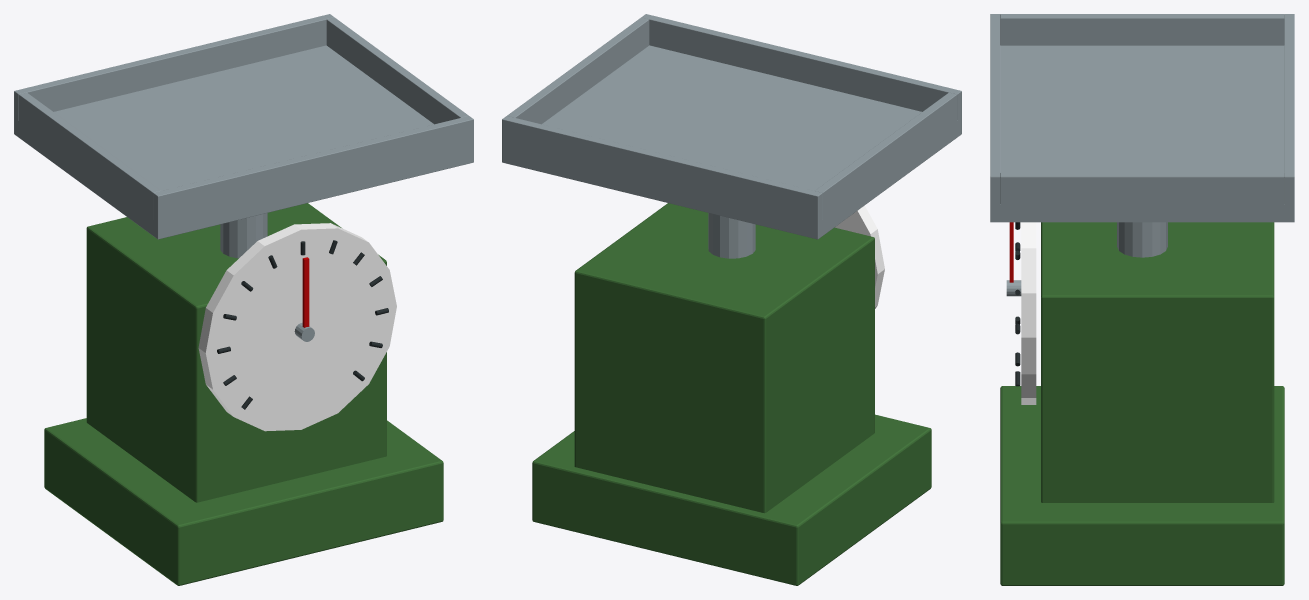
The model's file is local-wet-market-weighing-scale.glb.
3 renders of one model, left to right at view 1: azimuth 30°, elevation 25°; view 2: azimuth 150°, elevation 25°; view 3: azimuth 270°, elevation 25°, orthographic. The views are drawn at different scales.
Visible parts, largest first — view 1: Housing, Platform, Base, Dial, Pan_Lip, Pan_Lip.001, Pan_Lip.002, Pan_Lip.003, Spring_Column; view 2: Housing, Platform, Base, Pan_Lip.001, Pan_Lip, Pan_Lip.002, Pan_Lip.003, Spring_Column, Dial; view 3: Housing, Platform, Base, Pan_Lip.003, Pan_Lip.002, Dial, Pan_Lip, Pan_Lip.001, Spring_Column.
Boxes of the visible parts, <box> form: Housing: <box>86,203,386,502</box>; Platform: <box>14,45,473,239</box>; Base: <box>44,418,443,585</box>; Dial: <box>198,223,396,431</box>; Pan_Lip: <box>153,116,473,230</box>; Pan_Lip.001: <box>14,14,334,127</box>; Pan_Lip.002: <box>19,92,160,226</box>; Pan_Lip.003: <box>326,17,468,124</box>; Spring_Column: <box>220,213,267,258</box>; Housing: <box>574,203,874,513</box>; Platform: <box>502,45,961,239</box>; Base: <box>532,414,931,585</box>; Pan_Lip.001: <box>502,116,822,230</box>; Pan_Lip: <box>641,14,961,127</box>; Pan_Lip.002: <box>815,92,956,226</box>; Pan_Lip.003: <box>507,17,649,124</box>; Spring_Column: <box>708,213,755,258</box>; Dial: <box>835,205,884,308</box>; Housing: <box>1041,222,1274,502</box>; Platform: <box>990,45,1294,222</box>; Base: <box>1000,386,1284,585</box>; Pan_Lip.003: <box>1000,172,1284,212</box>; Pan_Lip.002: <box>1000,14,1284,45</box>; Dial: <box>1021,222,1036,404</box>; Pan_Lip: <box>990,14,1000,212</box>; Pan_Lip.001: <box>1284,14,1294,212</box>; Spring_Column: <box>1117,222,1167,257</box>.
Size of the model in its own units: 0.38 by 0.46 by 0.3.
